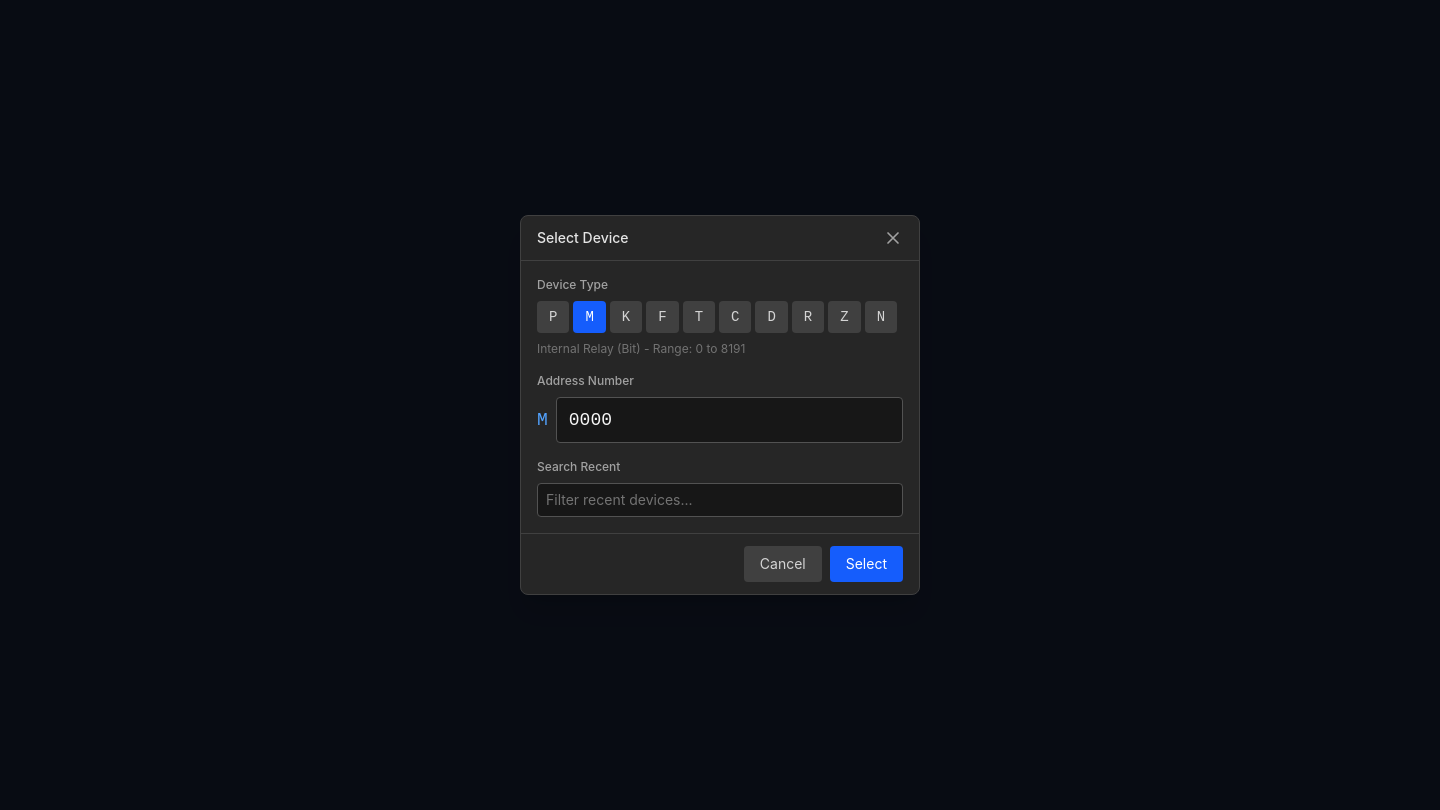
DeviceSelectDialog › Address Input › should limit to 2 digits for Z device type
This screenshot has width=1440, height=810.
Note: Select Z device type
Click the button "Z".
click(844, 317)  # box [828,301,861,333]
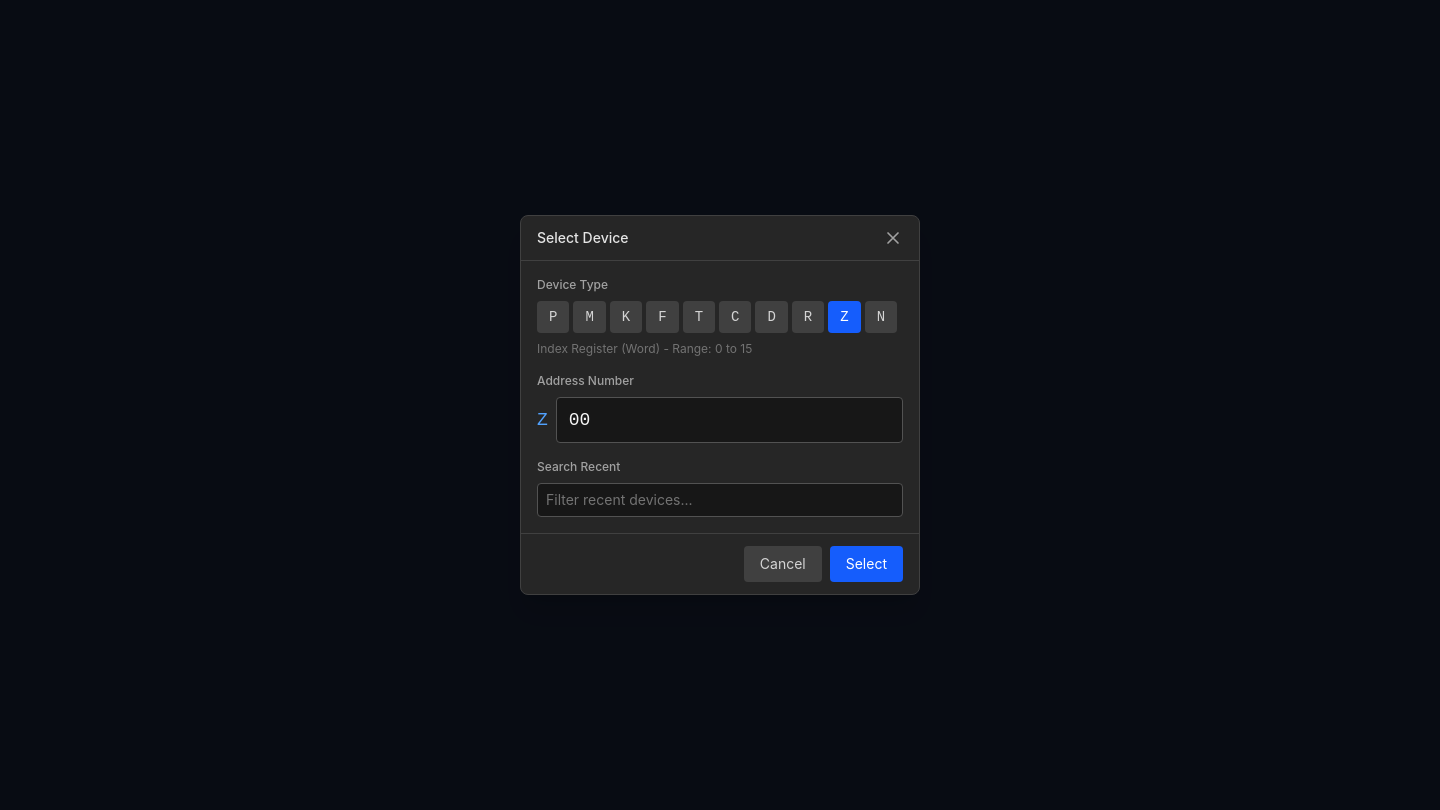
Type "123" into the field labelled "Address Number".
click(729, 420); type("123")  # box [556,397,903,443]
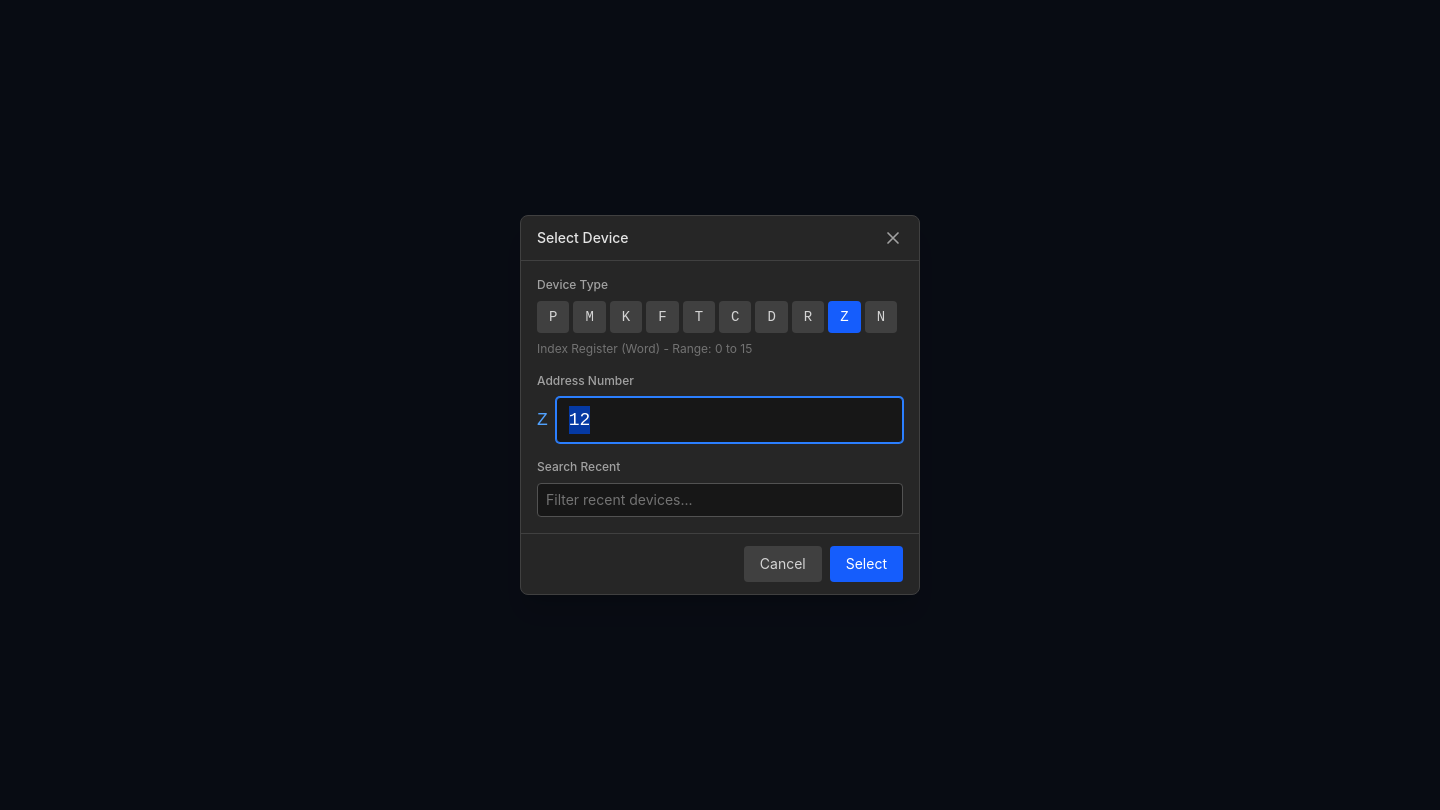
Check: the field labelled "Address Number" holds "12", box [556,397,903,443]
